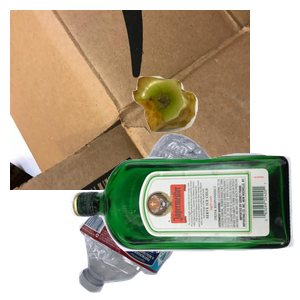cardboard: (10, 10, 250, 190)
glass: (67, 150, 300, 300)
plastic: (76, 131, 280, 300)
trash: (130, 74, 300, 199)
